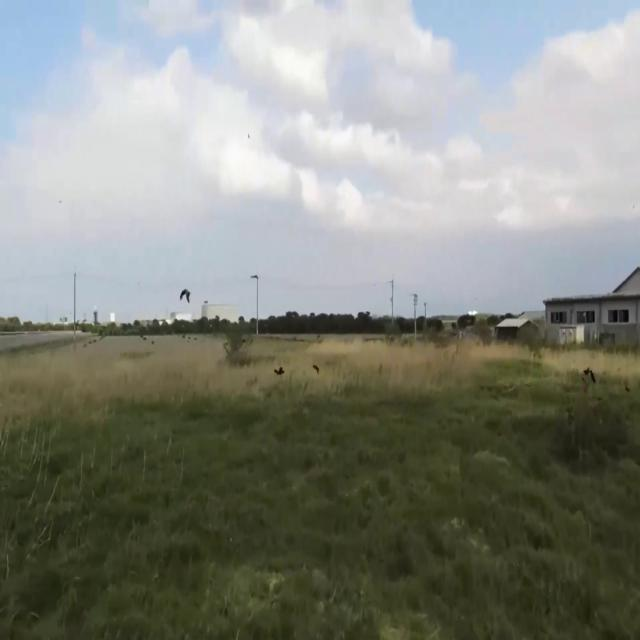bird: (582, 361, 596, 392), (179, 280, 191, 312), (273, 358, 285, 386), (251, 266, 259, 288), (312, 358, 319, 380)
